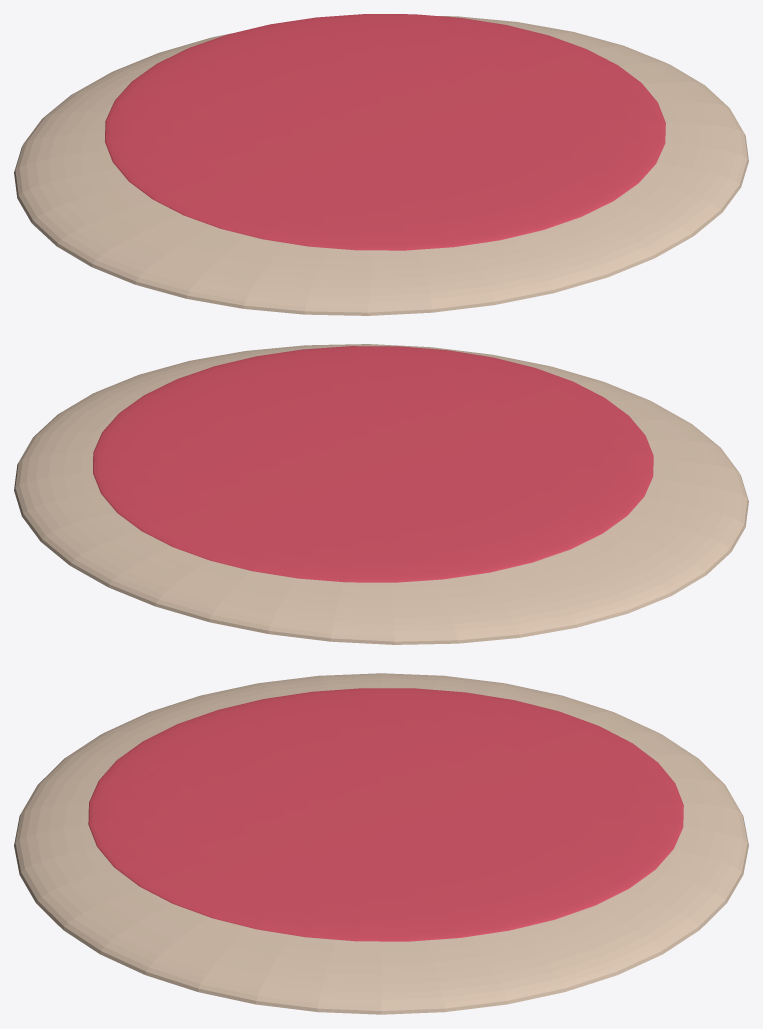
The model's file is sauce_with_pizza.glb.
The picture shows the model from 3 angles, top to bottom: view 1: azimuth 30°, elevation 25°; view 2: azimuth 150°, elevation 25°; view 3: azimuth 270°, elevation 25°; orthographic projection. The views are drawn at different scales.
Parts seen in each view (by area): view 1: Mesh_Mesh_head_geo.001_lambert2SG.001; view 2: Mesh_Mesh_head_geo.001_lambert2SG.001; view 3: Mesh_Mesh_head_geo.001_lambert2SG.001.
Boxes of the visible parts, bbox=[...] form: Mesh_Mesh_head_geo.001_lambert2SG.001: bbox=[14, 14, 748, 315]; Mesh_Mesh_head_geo.001_lambert2SG.001: bbox=[14, 344, 748, 644]; Mesh_Mesh_head_geo.001_lambert2SG.001: bbox=[14, 673, 748, 1014].
Size of the model in its own units: 86 by 5 by 79.
